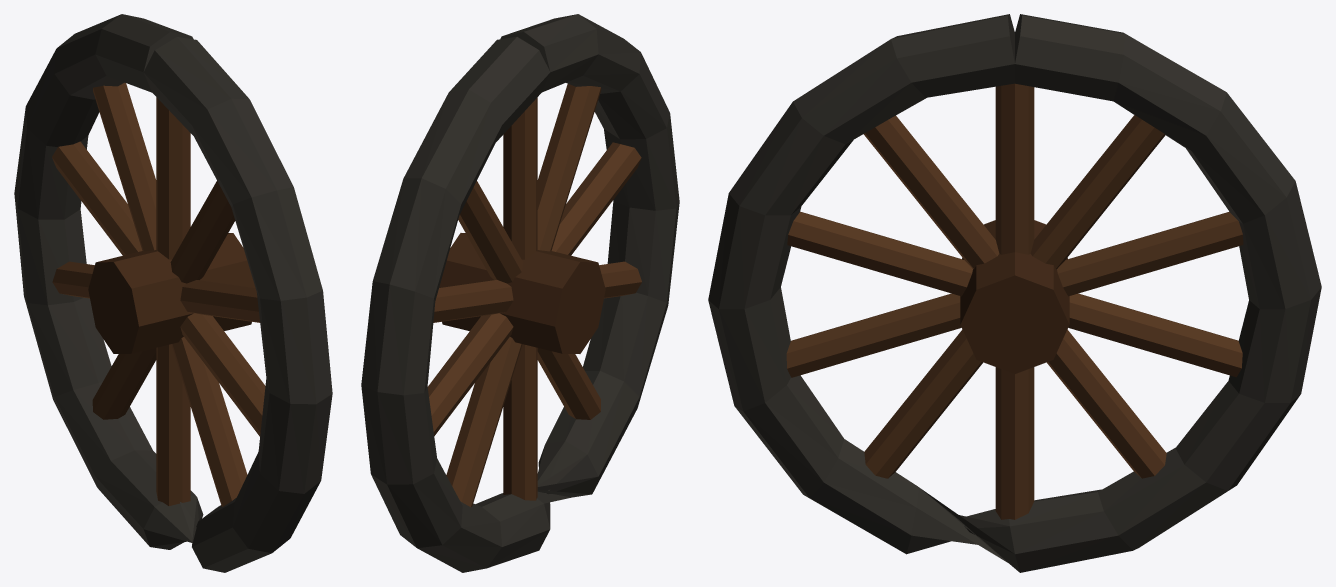
The picture shows the model from 3 angles, left to right: view 1: azimuth 30°, elevation 25°; view 2: azimuth 150°, elevation 25°; view 3: azimuth 270°, elevation 25°; orthographic projection. The views are drawn at different scales.
Bounding box in the file's own units: 0.34 × 1.41 × 1.41.
